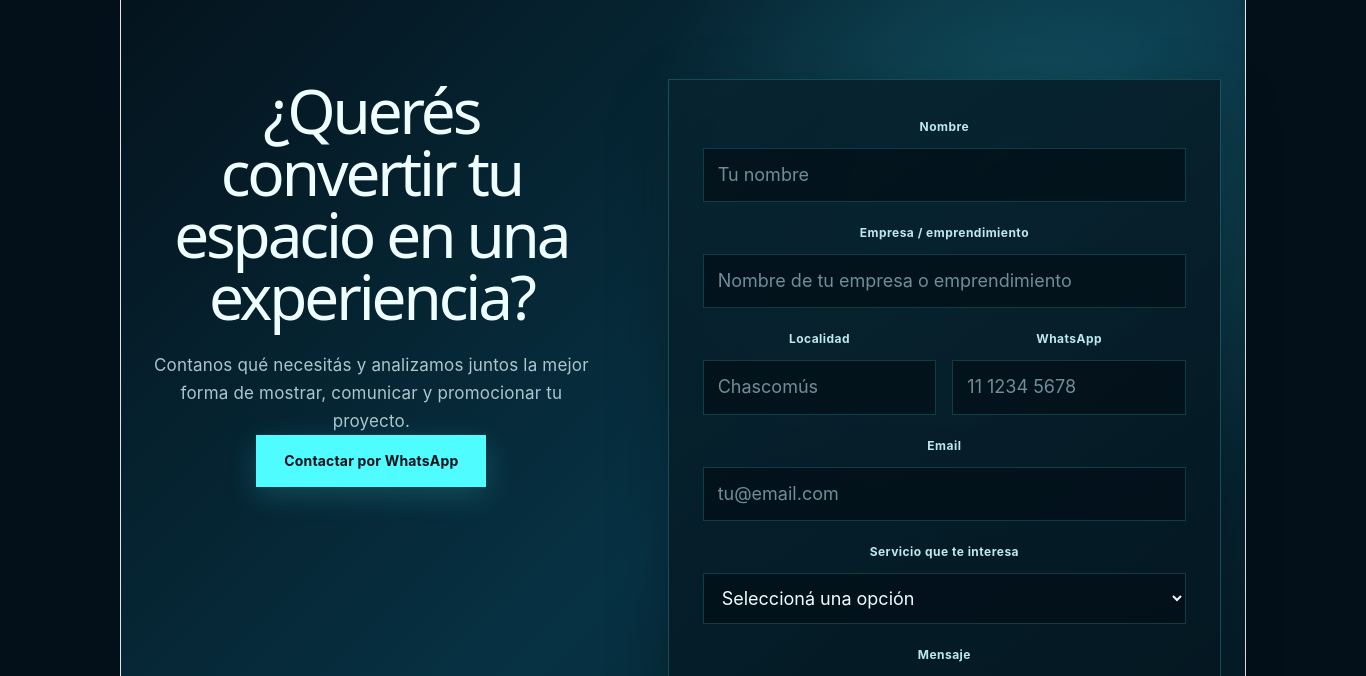
ContactSection › muestra mensaje de éxito tras envío
The width and height of the screenshot is (1366, 676).
Type "Test" into the field labelled "Nombre" at (944, 175), box [703,148,1186,202]
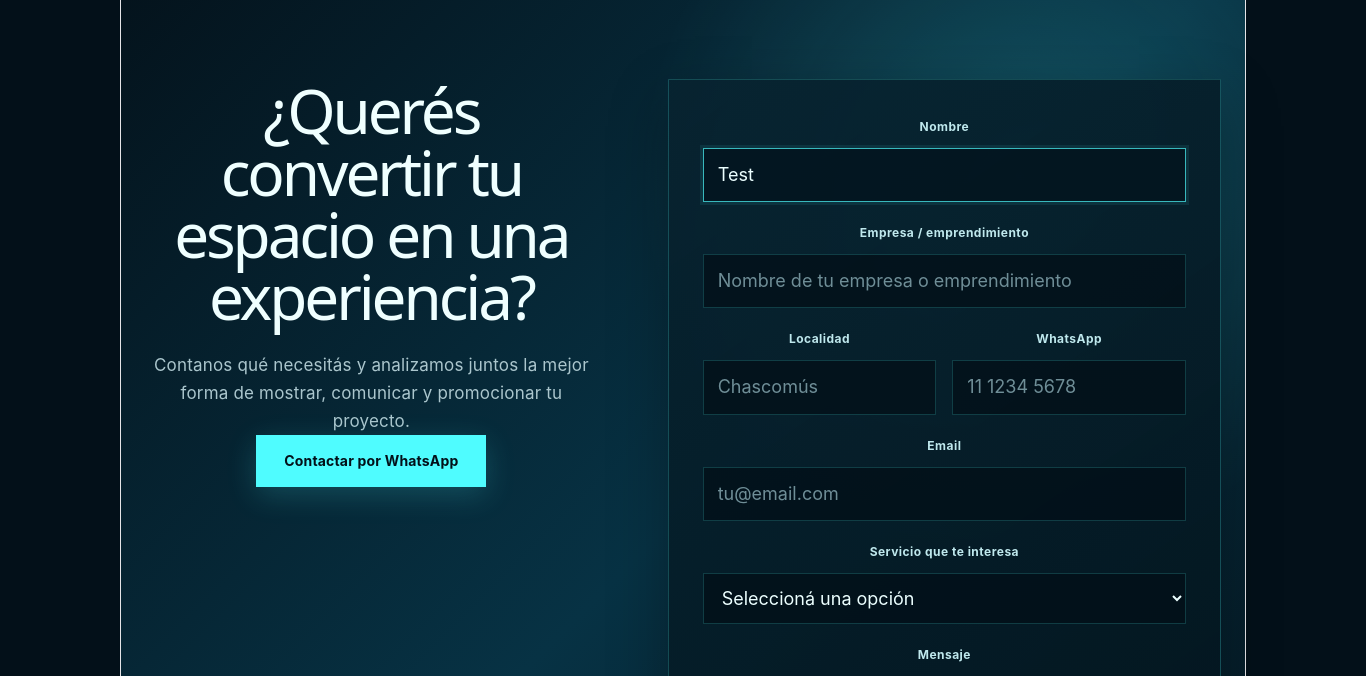
Type "11 1111 2222" into the field labelled "WhatsApp" at (1069, 388), box [952,360,1186,415]
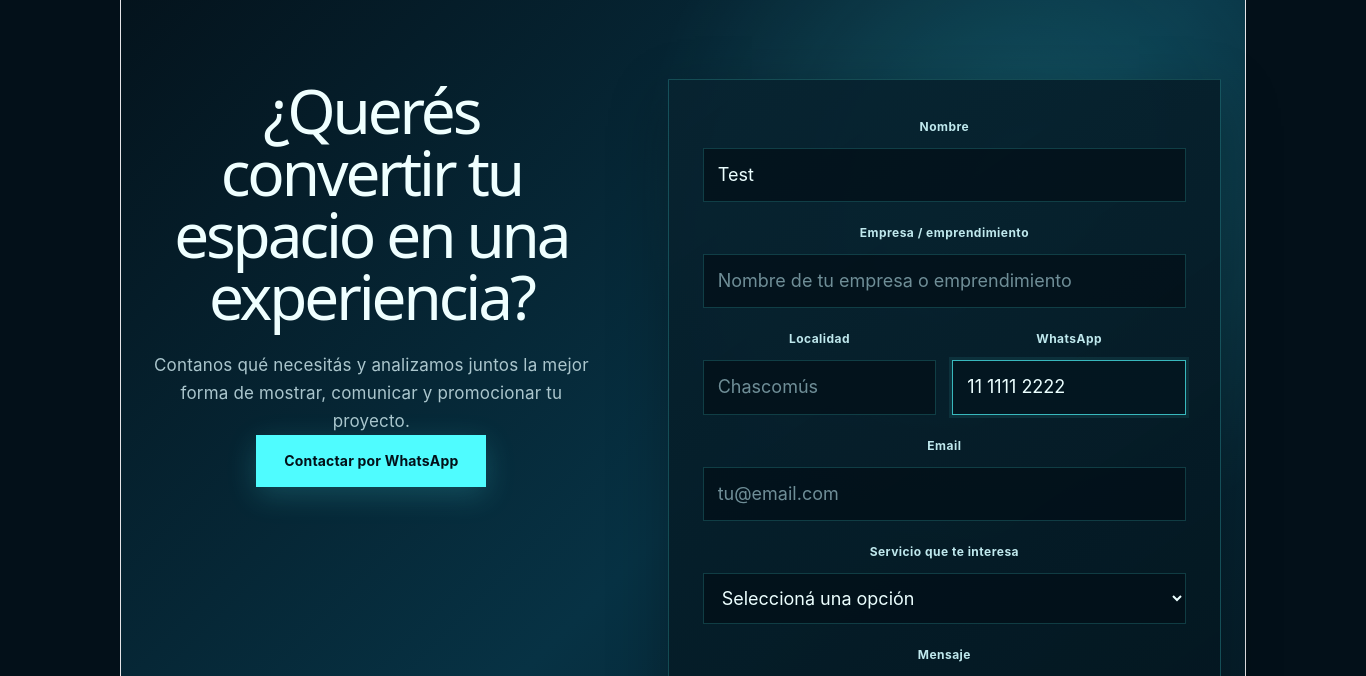
Select "Contenido para redes" in the dropdown labelled "Servicio que te interesa" at (944, 598), box [703,573,1186,624]
(page scrolled)
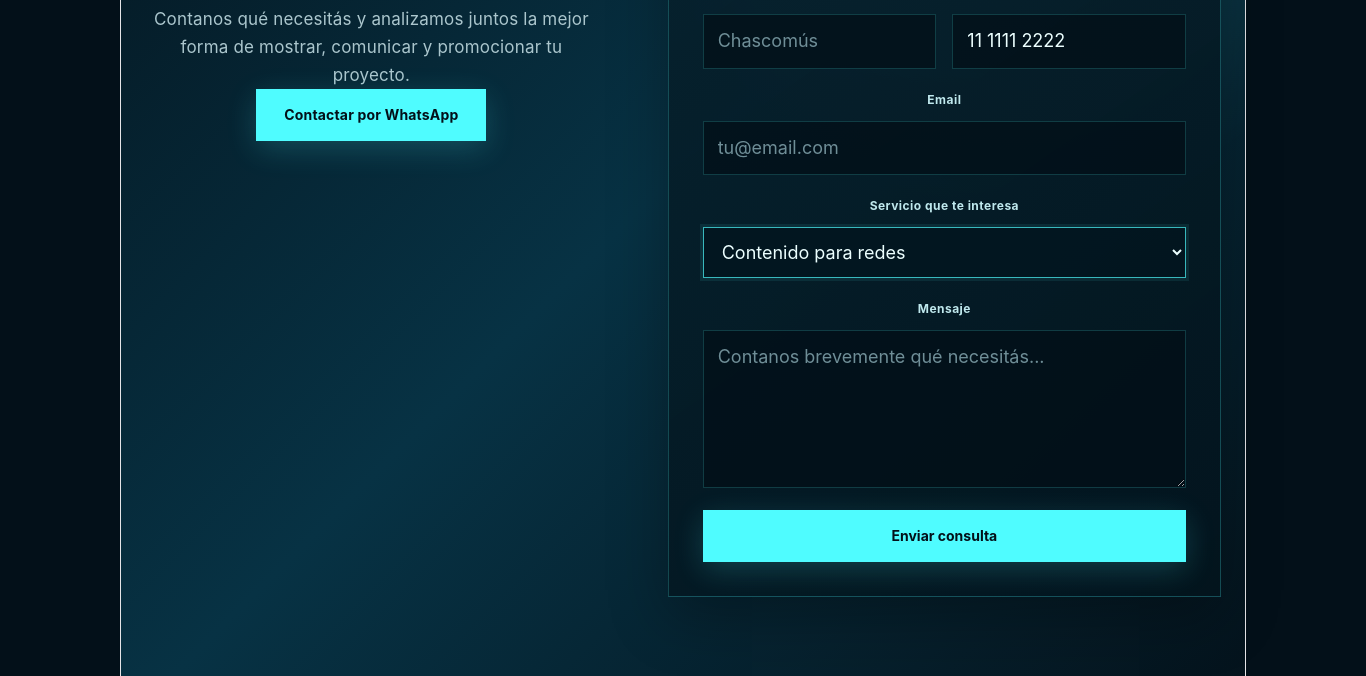
Click the button "Enviar consulta" at (944, 536), box [703,510,1186,562]
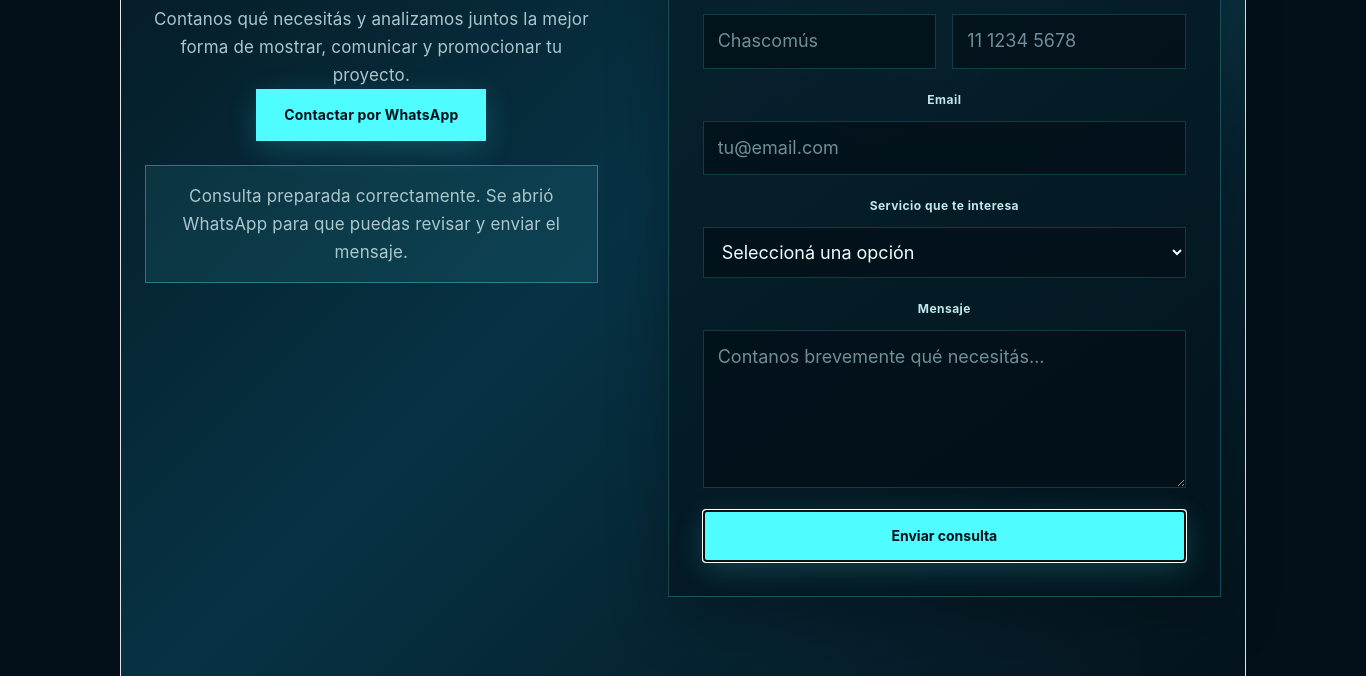
Expected: the text "Consulta preparada correctamente" is shown, [182,186,560,262]
